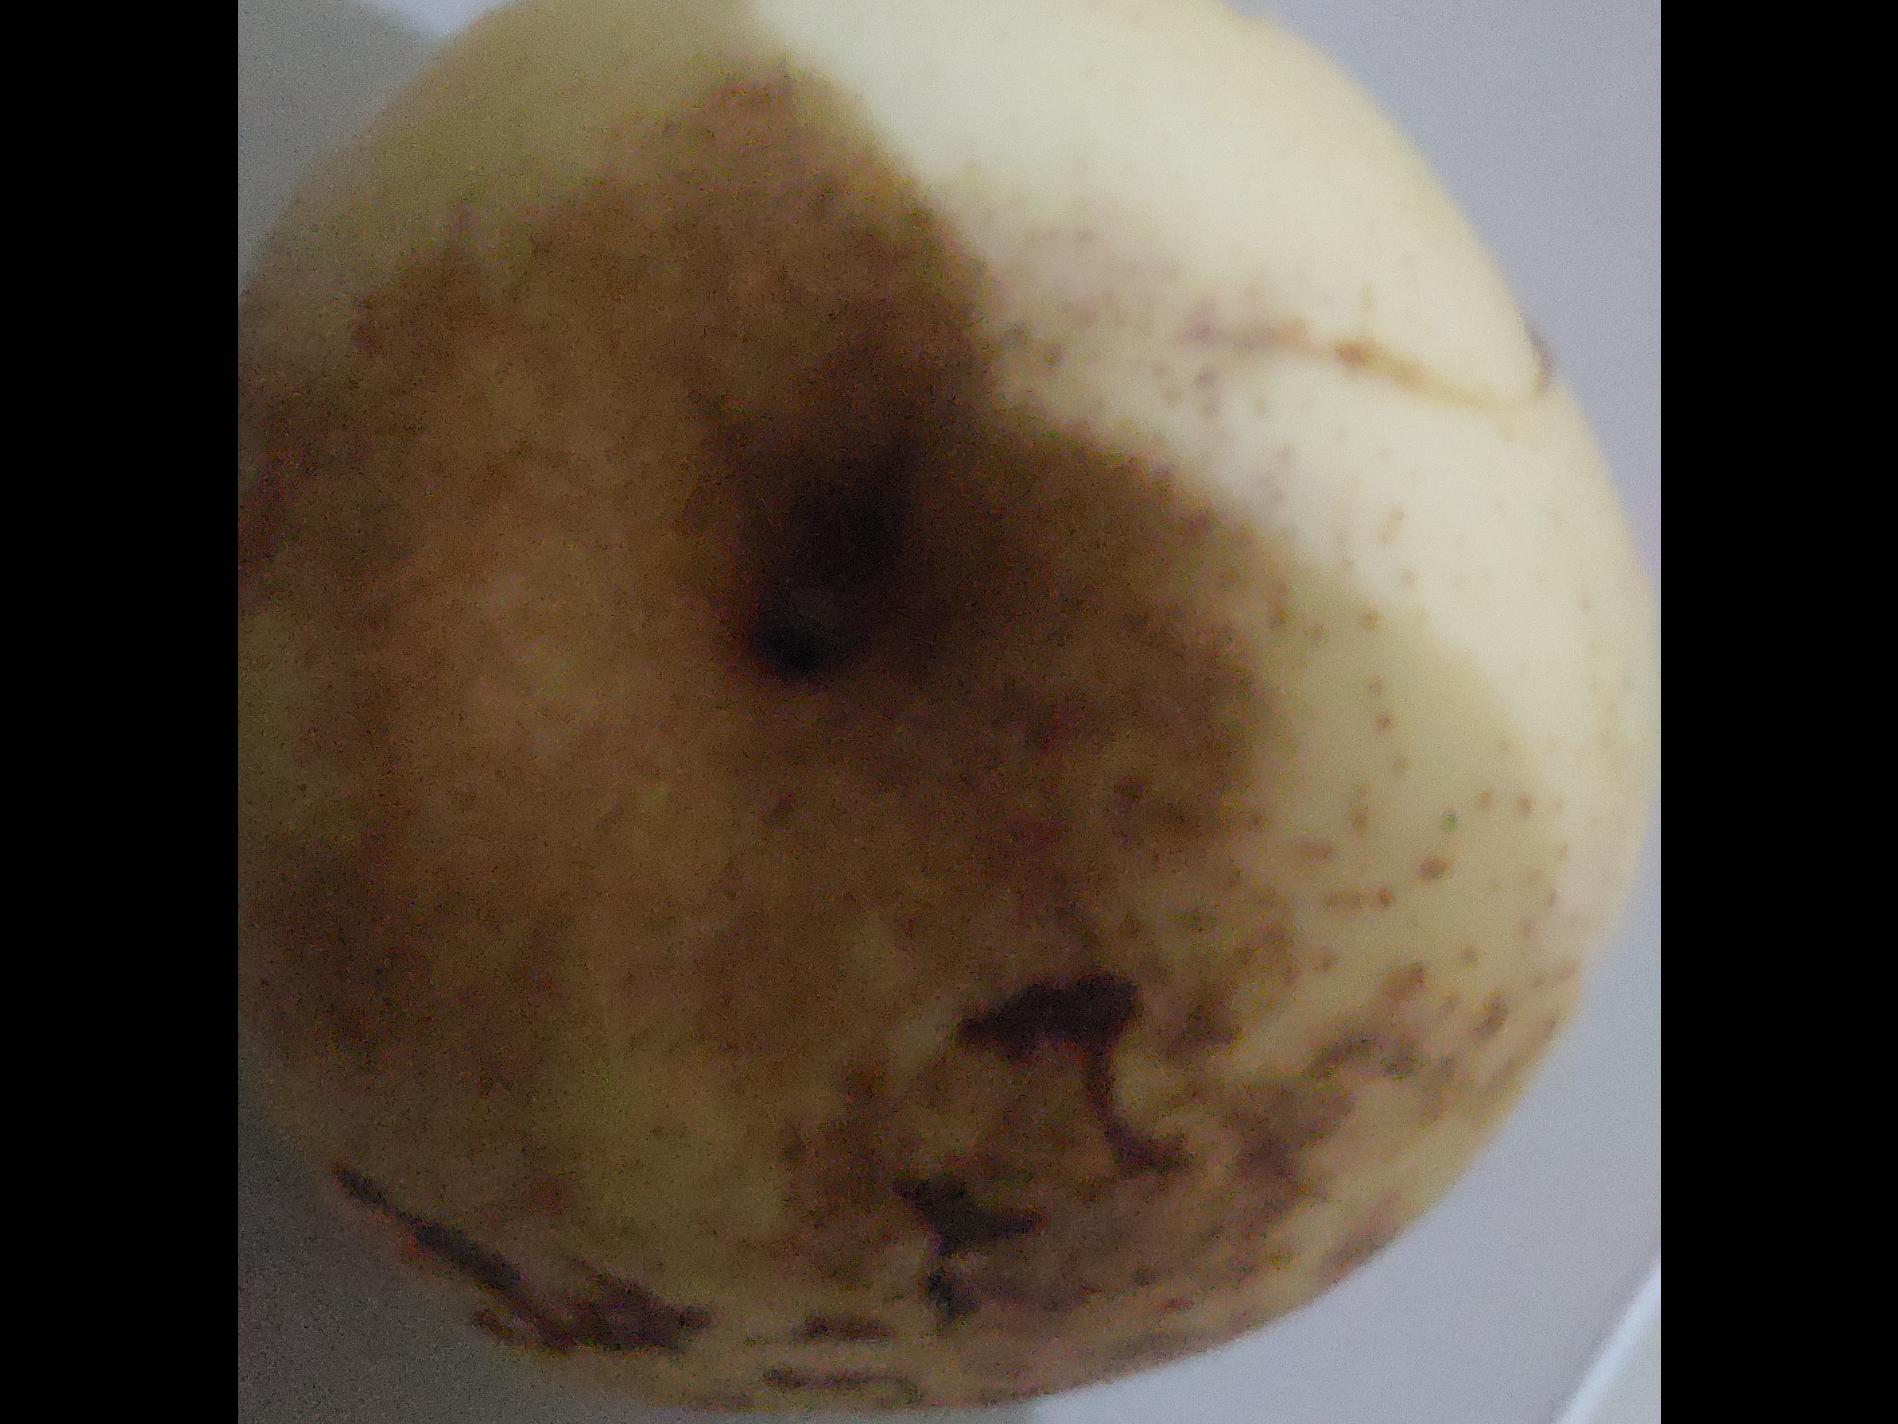Bad Pear: (236, 0, 1654, 1424)
